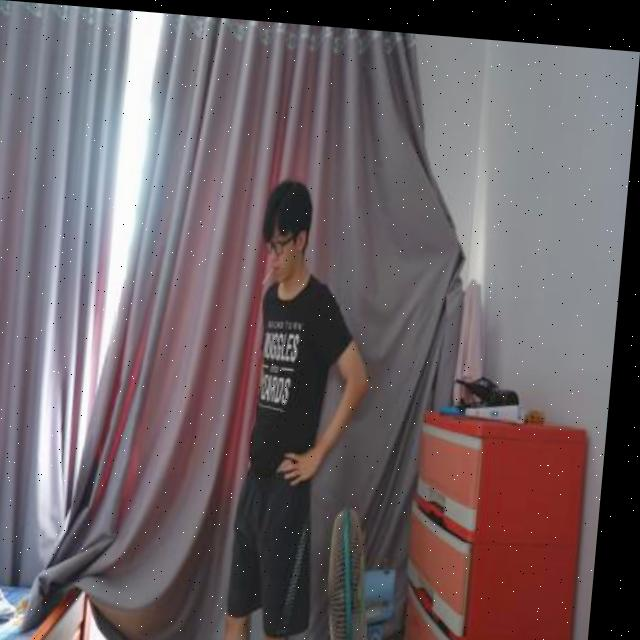cigarette: (267, 262, 280, 281)
